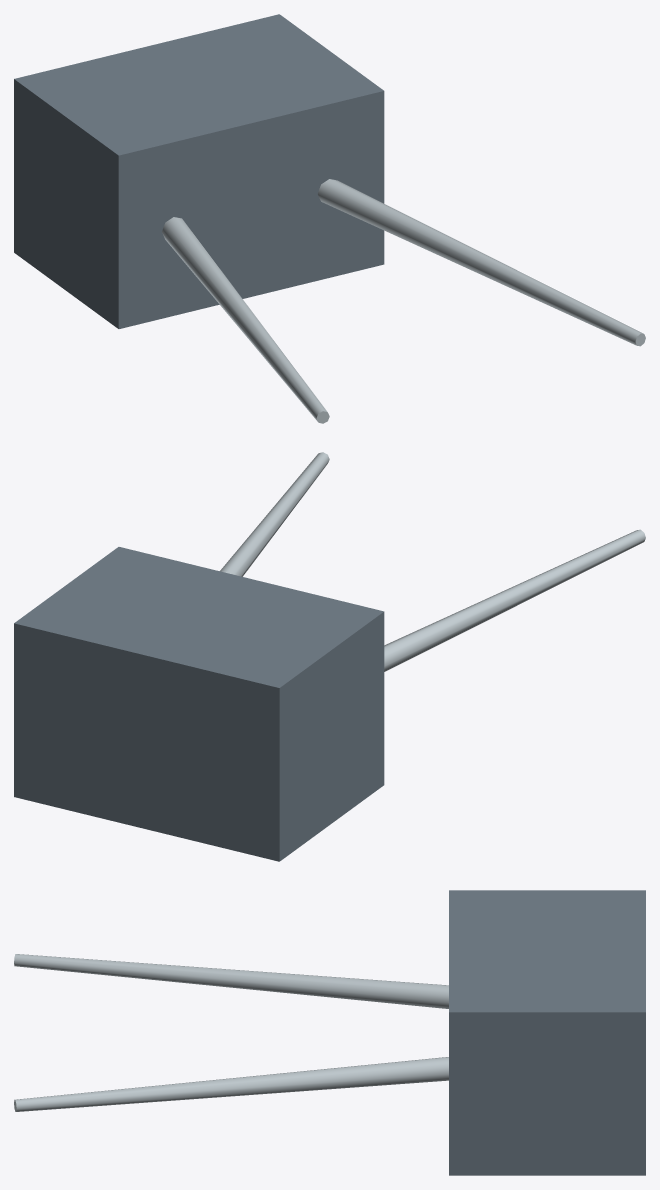
The model's file is voyager_radio_antennas_stowed.glb.
The picture shows the model from 3 angles, top to bottom: view 1: azimuth 30°, elevation 25°; view 2: azimuth 150°, elevation 25°; view 3: azimuth 270°, elevation 25°; orthographic projection. The views are drawn at different scales.
Parts seen in each view (by area): view 1: voyager_radio_antennas.mesh_Machined_steel, voyager_radio_antennas.whip_02.mesh_Satin_aluminum, voyager_radio_antennas.whip_01.mesh_Satin_aluminum; view 2: voyager_radio_antennas.mesh_Machined_steel, voyager_radio_antennas.whip_01.mesh_Satin_aluminum, voyager_radio_antennas.whip_02.mesh_Satin_aluminum; view 3: voyager_radio_antennas.mesh_Machined_steel, voyager_radio_antennas.whip_01.mesh_Satin_aluminum, voyager_radio_antennas.whip_02.mesh_Satin_aluminum.
Part boxes in pixels (box(x1,y1,x2,y2)): voyager_radio_antennas.mesh_Machined_steel: box(14, 14, 384, 328); voyager_radio_antennas.whip_02.mesh_Satin_aluminum: box(318, 179, 645, 346); voyager_radio_antennas.whip_01.mesh_Satin_aluminum: box(162, 217, 329, 423); voyager_radio_antennas.mesh_Machined_steel: box(14, 547, 384, 861); voyager_radio_antennas.whip_01.mesh_Satin_aluminum: box(384, 529, 645, 671); voyager_radio_antennas.whip_02.mesh_Satin_aluminum: box(220, 452, 329, 576); voyager_radio_antennas.mesh_Machined_steel: box(449, 890, 645, 1175); voyager_radio_antennas.whip_01.mesh_Satin_aluminum: box(14, 954, 448, 1008); voyager_radio_antennas.whip_02.mesh_Satin_aluminum: box(14, 1057, 448, 1111).
Size of the model in its own units: 0.2978 by 0.15 by 0.5257.
